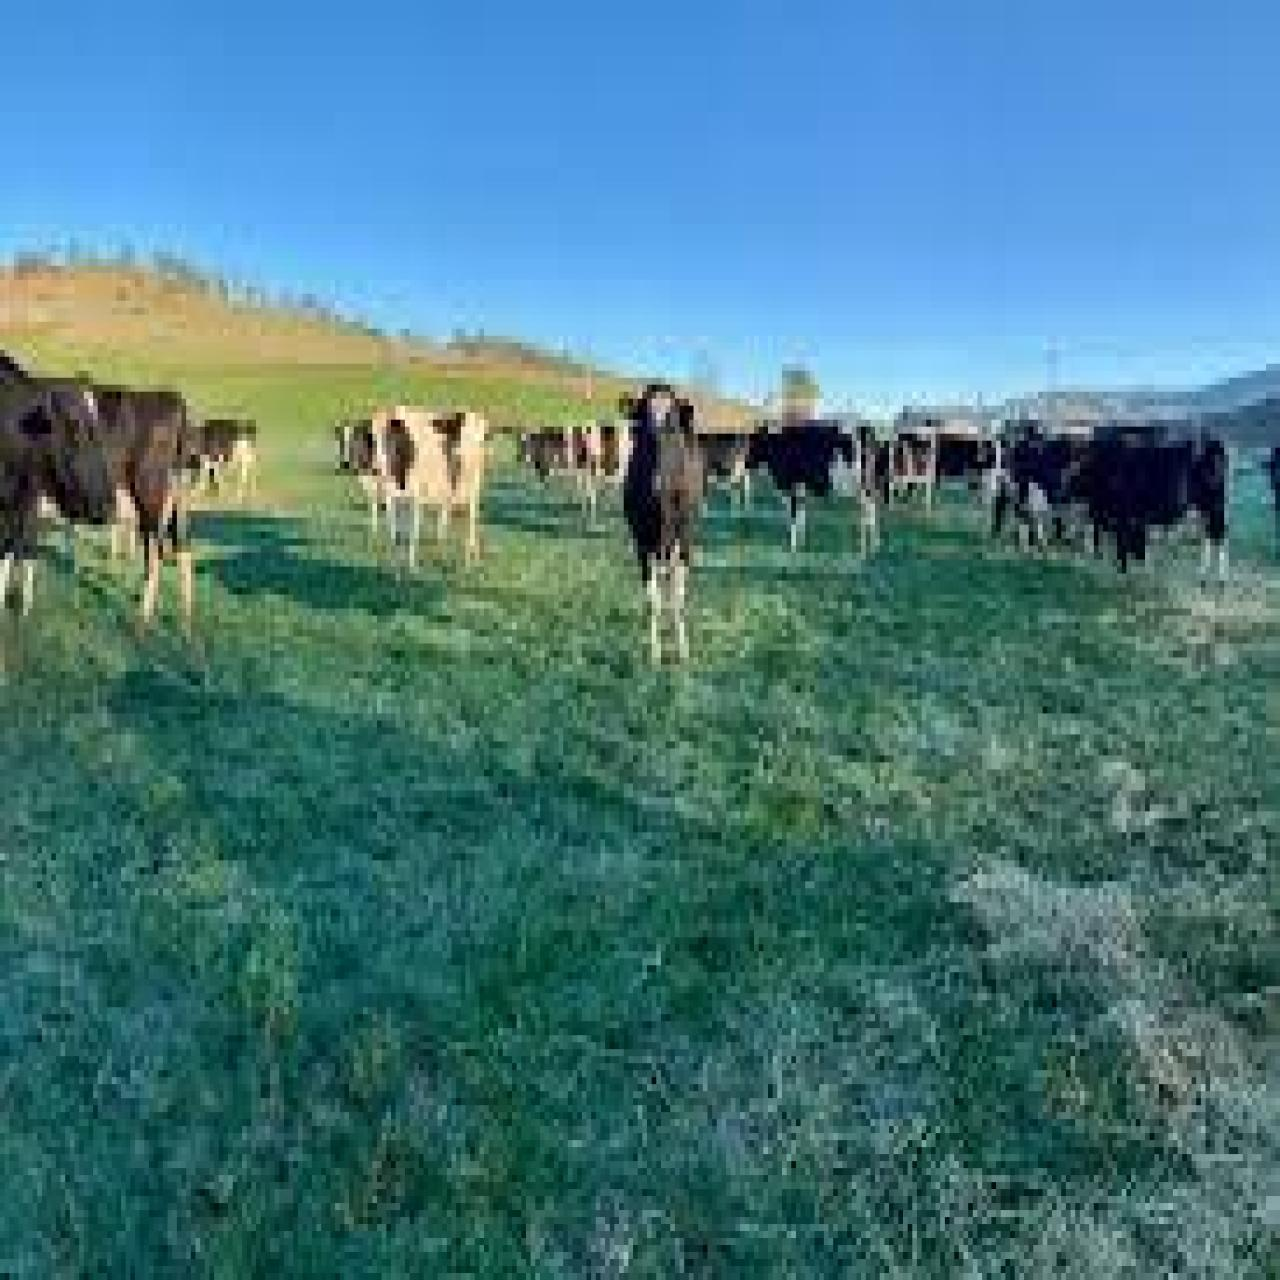cow: (0, 346, 116, 612), (621, 381, 706, 661), (1056, 448, 1233, 580), (740, 423, 870, 570), (370, 406, 482, 566), (193, 423, 253, 493)
